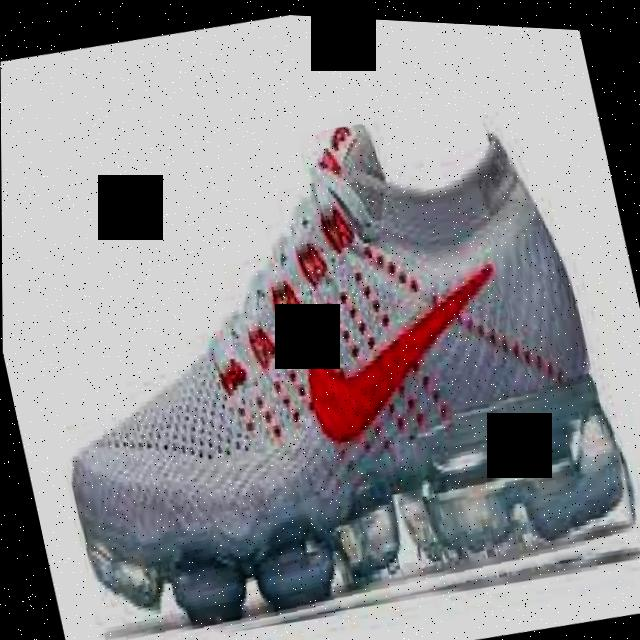shoe: (4, 65, 640, 640)
